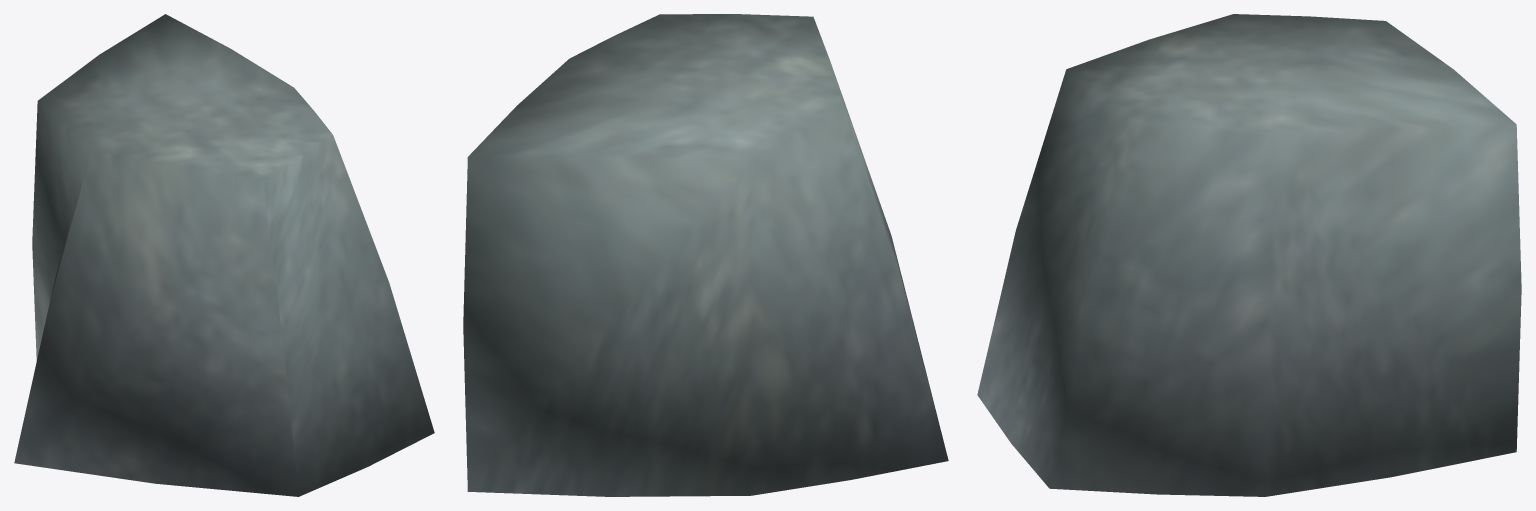
The model's file is rocks_006.fbx.
The picture shows the model from 3 angles, left to right: view 1: azimuth 30°, elevation 25°; view 2: azimuth 150°, elevation 25°; view 3: azimuth 270°, elevation 25°; orthographic projection. The views are drawn at different scales.
Parts seen in each view (by area): view 1: rocks.006; view 2: rocks.006; view 3: rocks.006.
Part boxes in pixels (bbox=[...]): rocks.006: bbox=[14, 14, 434, 496]; rocks.006: bbox=[463, 14, 948, 496]; rocks.006: bbox=[977, 14, 1521, 496].
Size of the model in its own units: 49.66 by 39.57 by 56.56.
